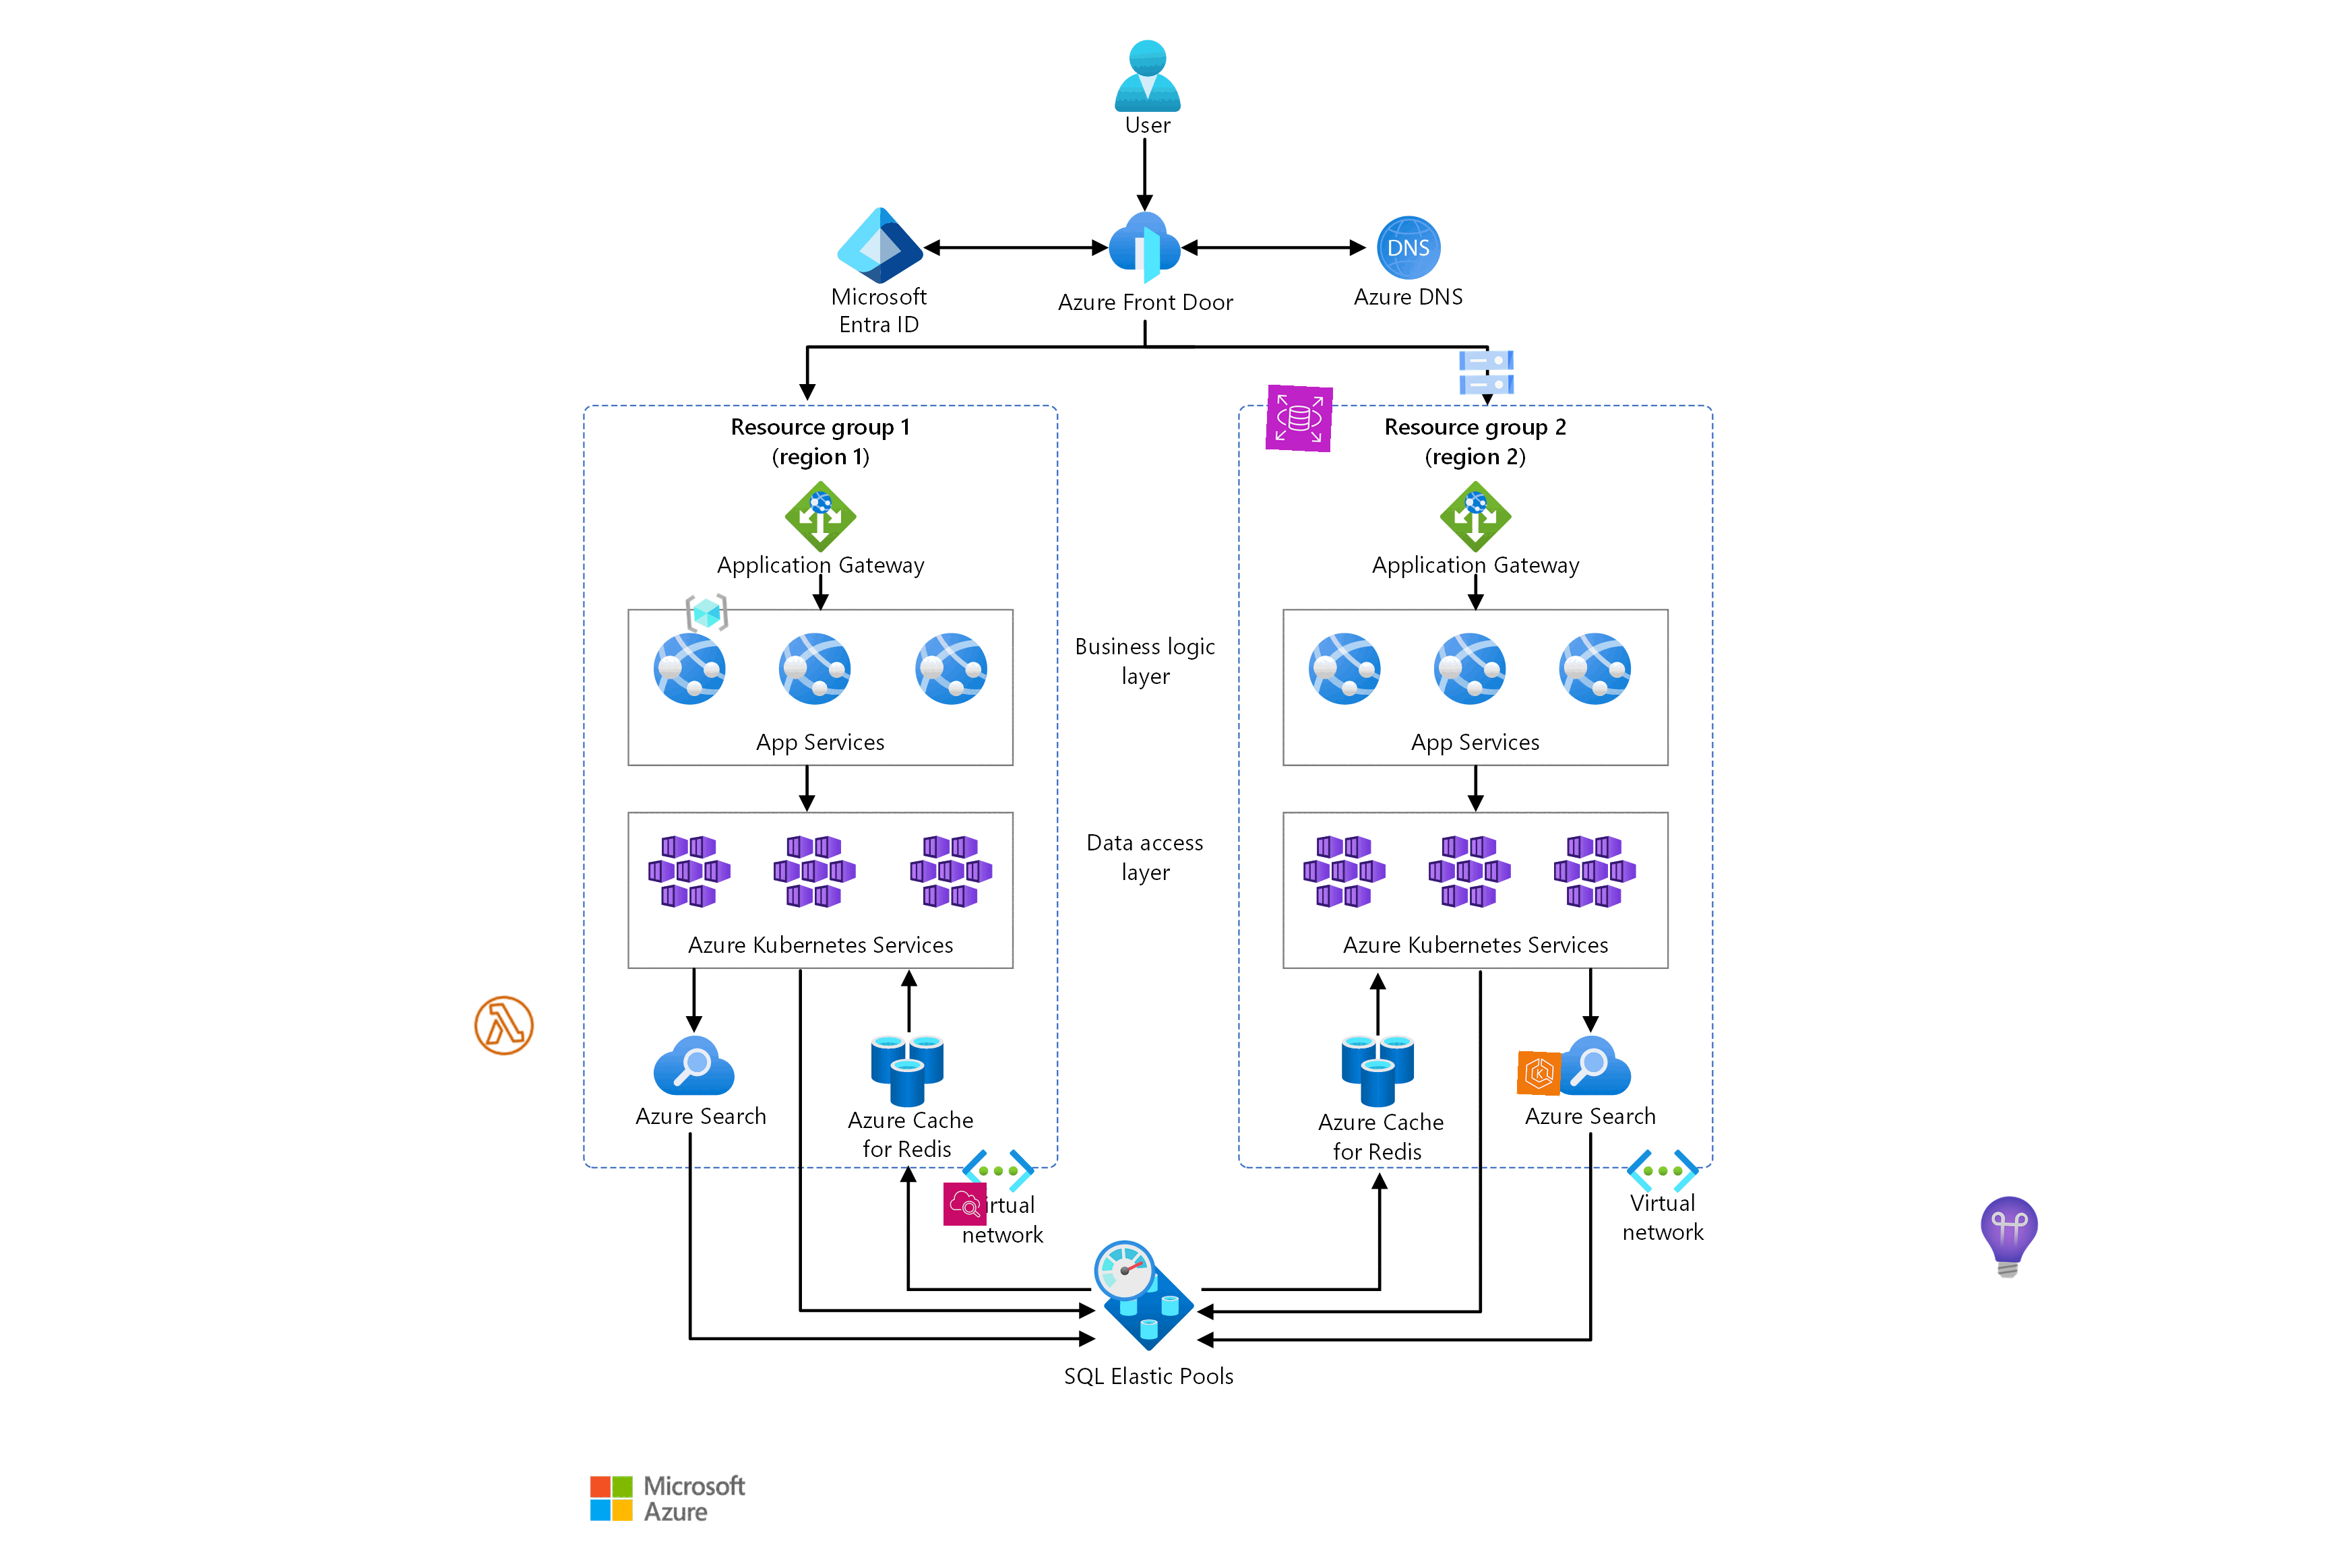aws_amazon_cloudwatch: (943, 1181, 987, 1227)
aws_amazon_elastic_kubernetes_service: (1515, 1050, 1563, 1095)
aws_amazon_rds: (1265, 383, 1333, 453)
aws_lambda_lambda_function: (469, 991, 539, 1060)
azure_application_insights: (1963, 1192, 2054, 1283)
azure_monitor: (1090, 1236, 1160, 1305)
azure_resource_groups: (682, 590, 730, 637)
gcp_cloud_storage: (1454, 340, 1519, 406)
